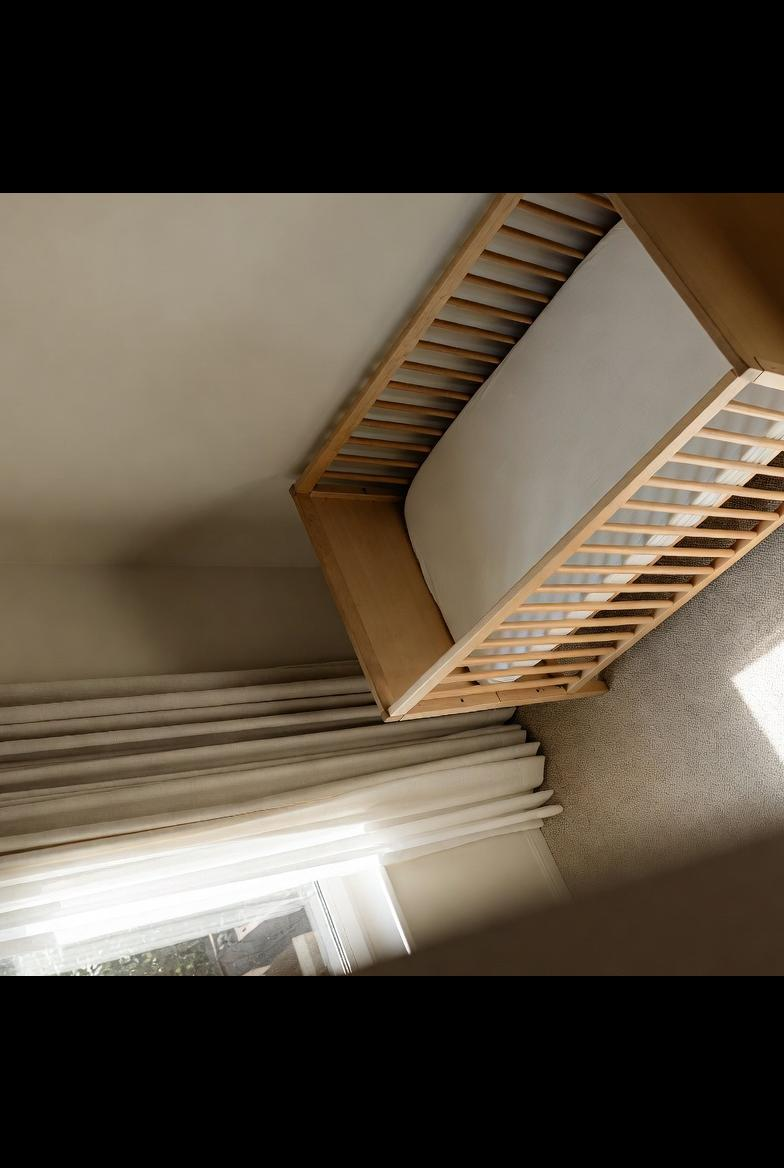crib: (263, 192, 784, 738)
